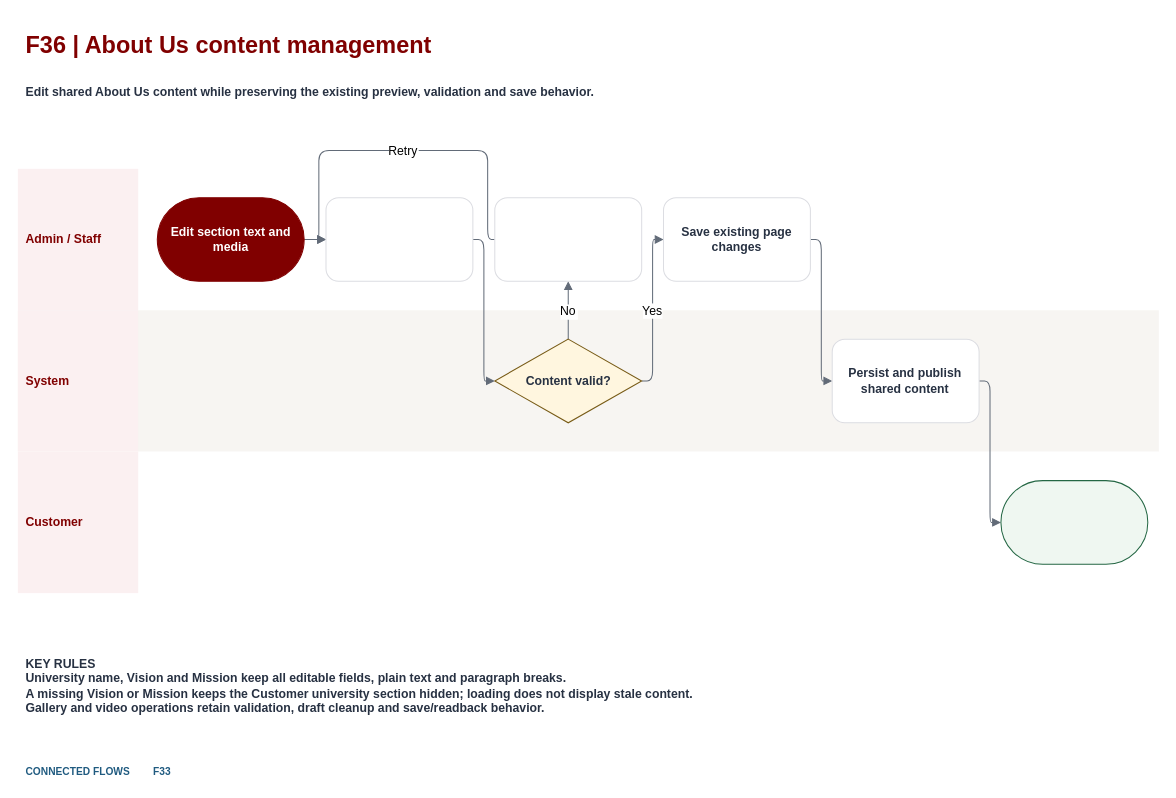
The diagram is 1176 pixels wide and 798 high, and some of its shapes have lost their labels. Here are the shapes that lost their labels. From the top down, the centre of each, then its label:
At [399,239]: "Adjust images; review preview".
At [568,239]: "Correct fields; retain draft".
At [1074,522]: "Read updated About Us page".
